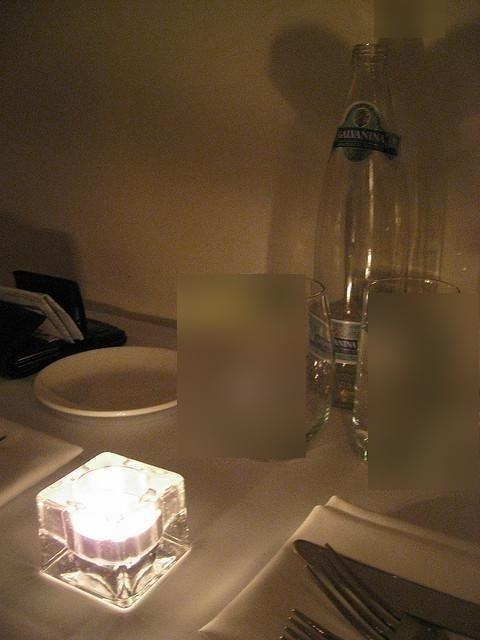bottle-glass: (314, 39, 411, 405)
